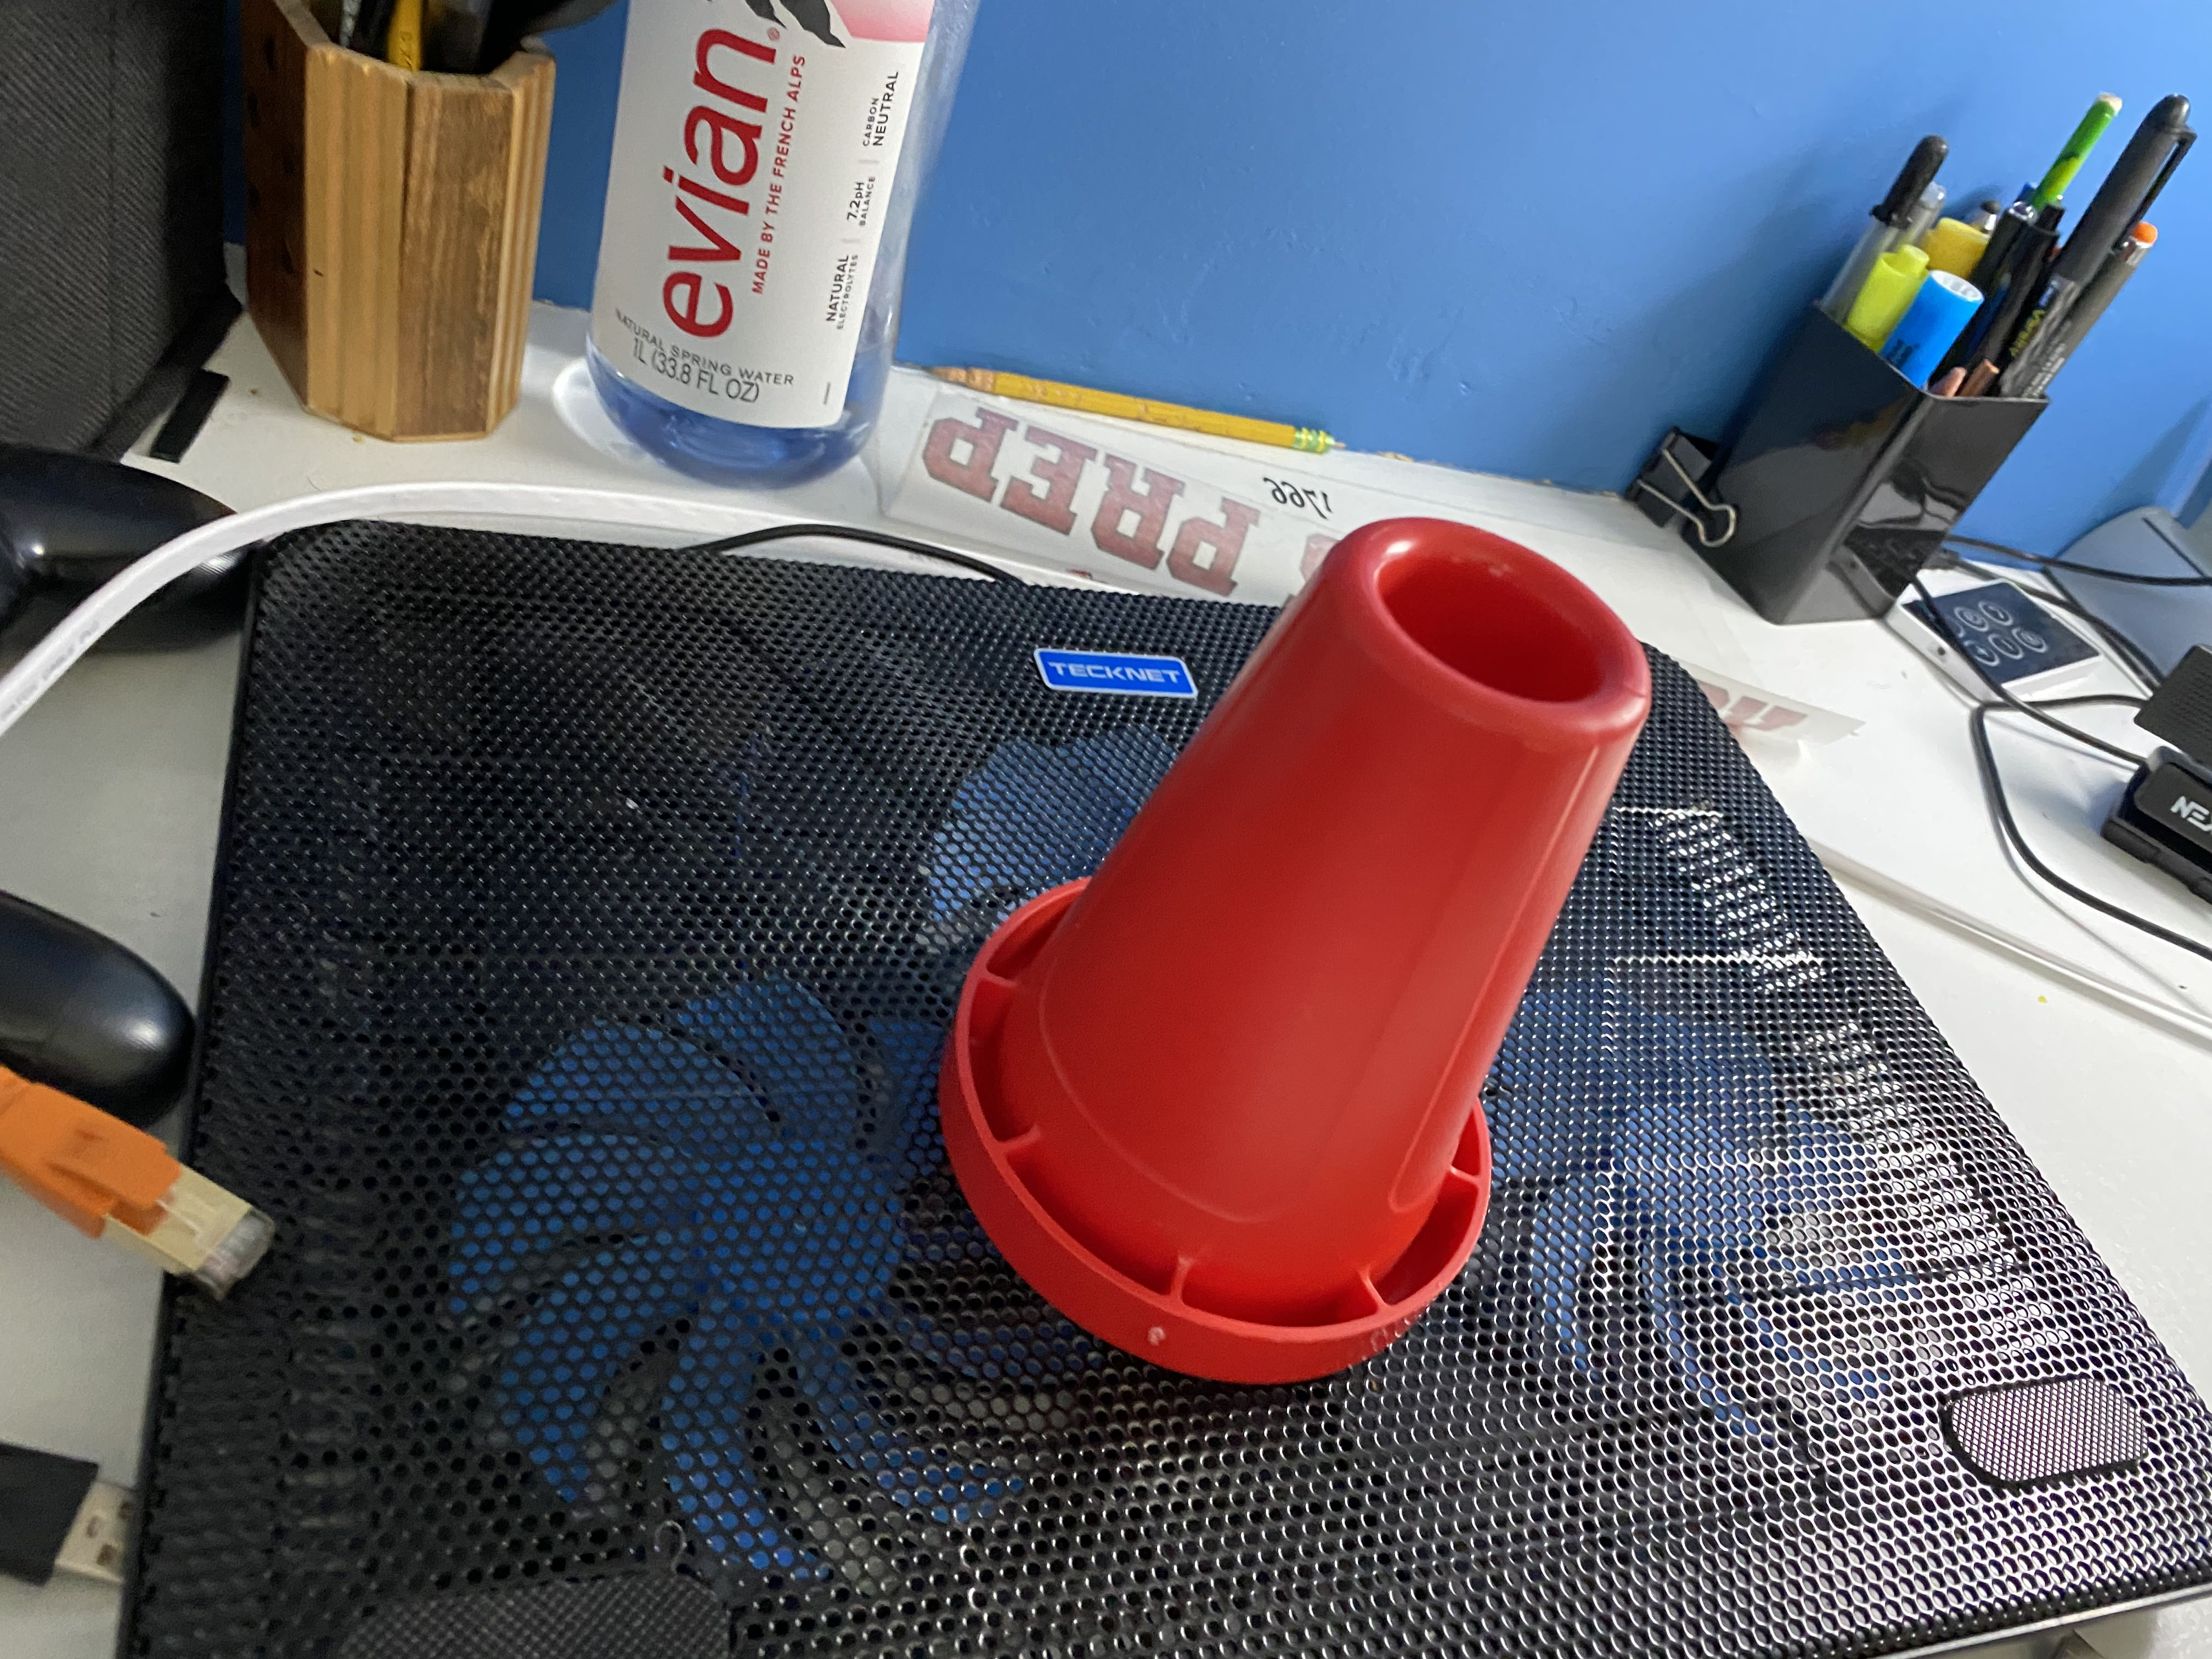redCone: (928, 507, 1660, 1394)
